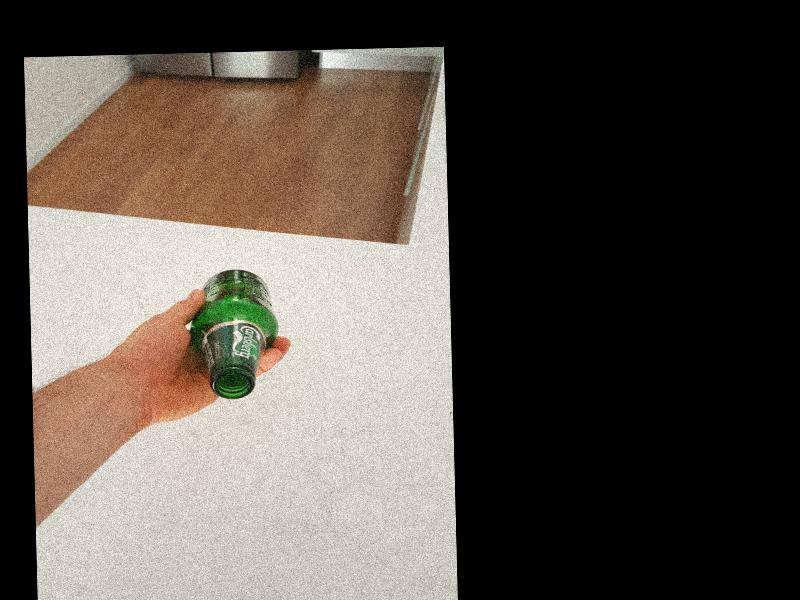Beer: (190, 267, 278, 400)
